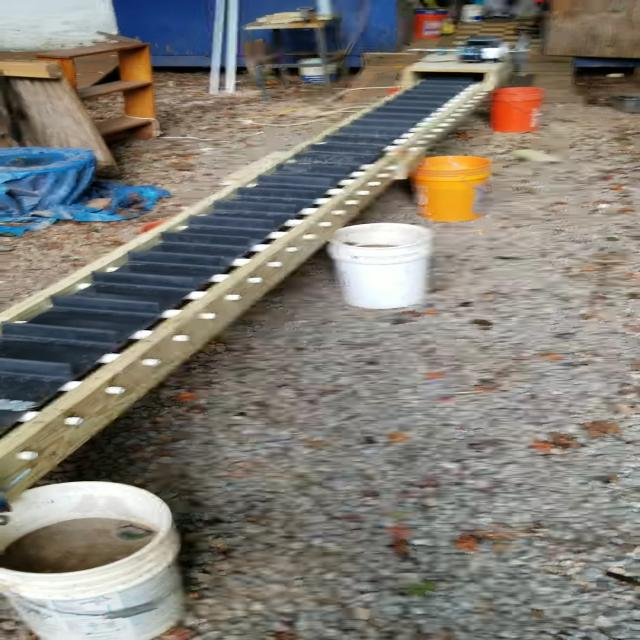Convoyeur: (0, 28, 549, 505)
